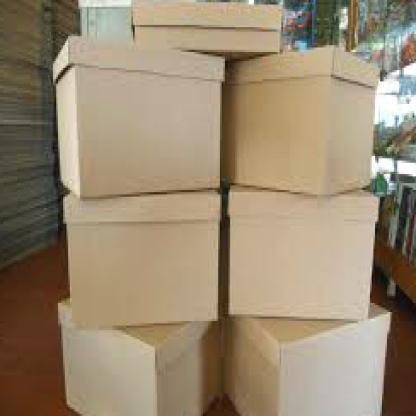box: (48, 32, 227, 197), (229, 45, 386, 208), (56, 192, 222, 330), (225, 179, 379, 326), (48, 294, 229, 414), (227, 317, 398, 414), (125, 0, 287, 59)
